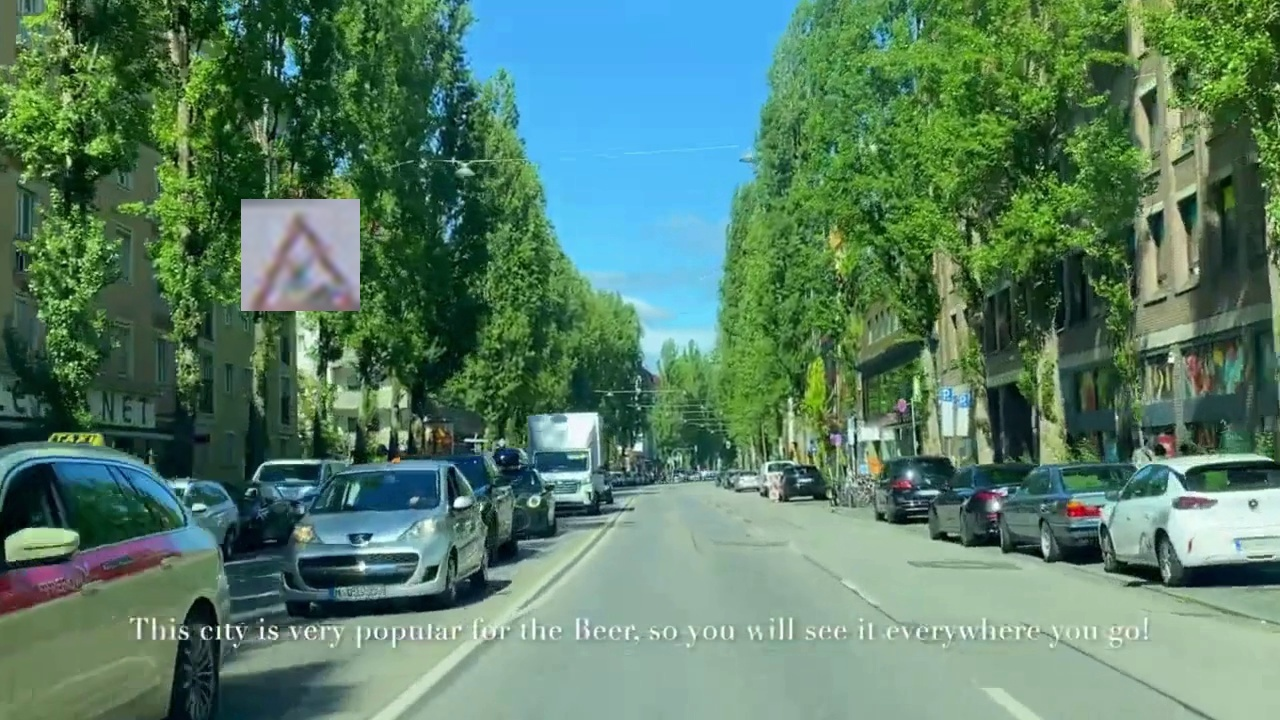Road work: (241, 199, 360, 311)
